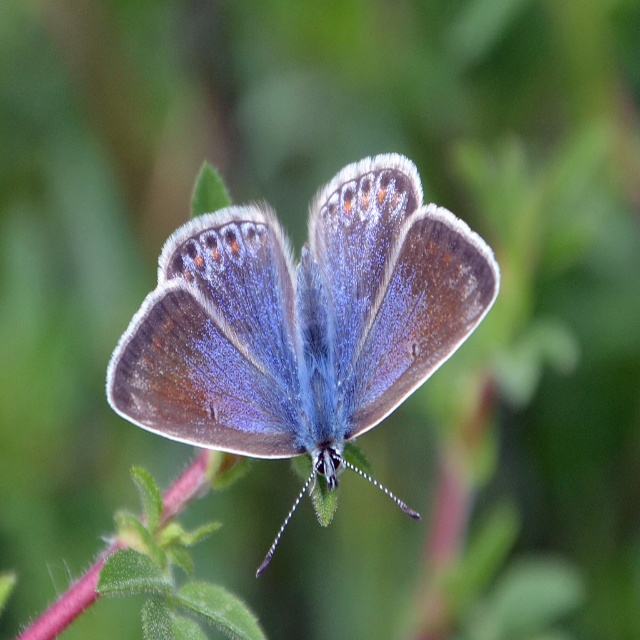Butterfly: (108, 151, 501, 577)
